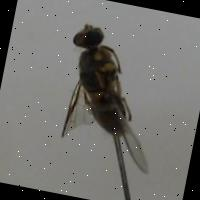Oriental-fruit-fly: (46, 14, 186, 179)
